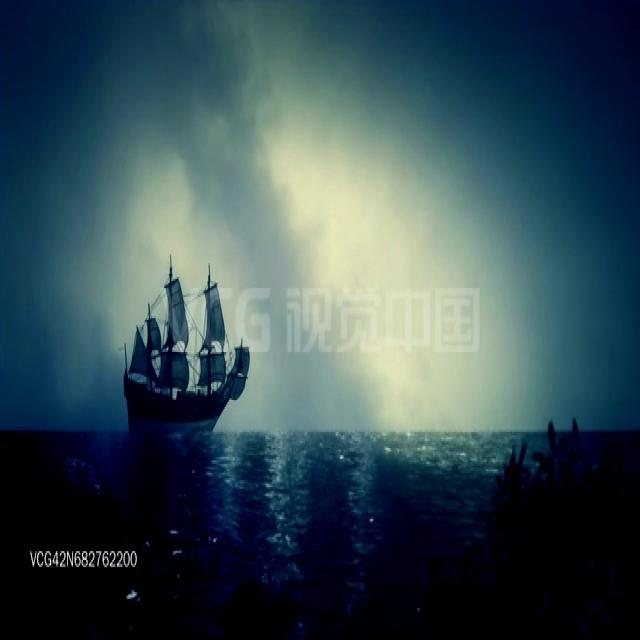sailboat: (119, 252, 249, 427)
